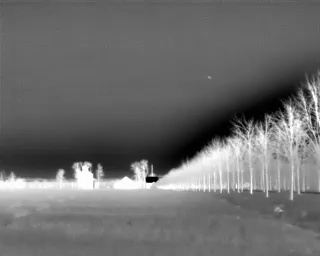BIRD: (206, 74, 213, 81)
